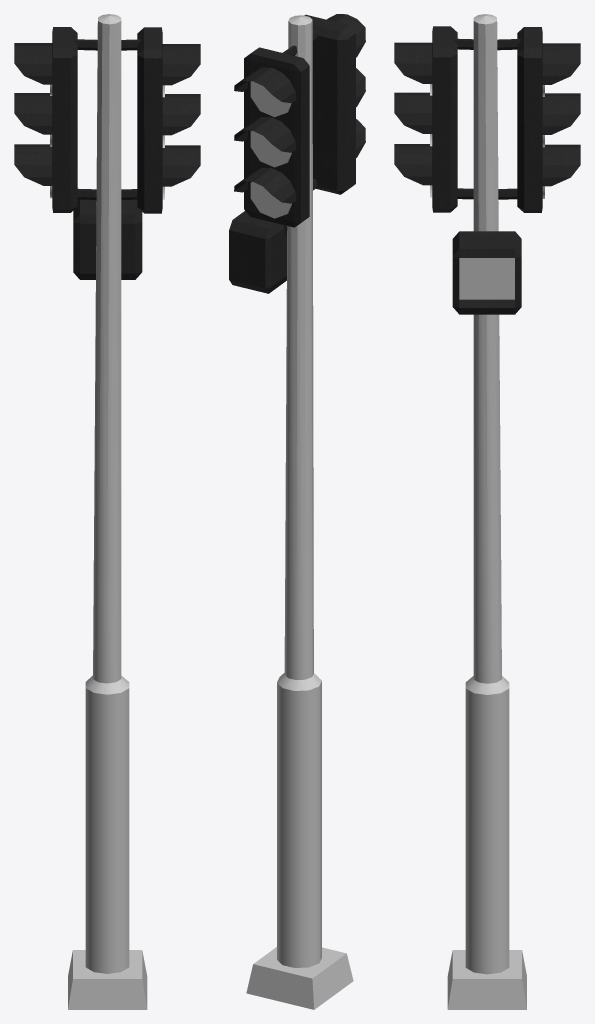
File: D_tlight_2x.FBX
3 renders of one model, left to right at view 1: azimuth 90°, elevation 25°; view 2: azimuth 150°, elevation 25°; view 3: azimuth 270°, elevation 25°, orthographic.
Visible parts, largest first — view 1: Object146; view 2: Object146; view 3: Object146.
Boxes of the visible parts, x1=… form: Object146: x1=14, y1=14, x2=200, y2=1009; Object146: x1=229, y1=14, x2=365, y2=1009; Object146: x1=394, y1=14, x2=580, y2=1009.
Size of the model in its own units: 1.37 by 2.44 by 14.12.
